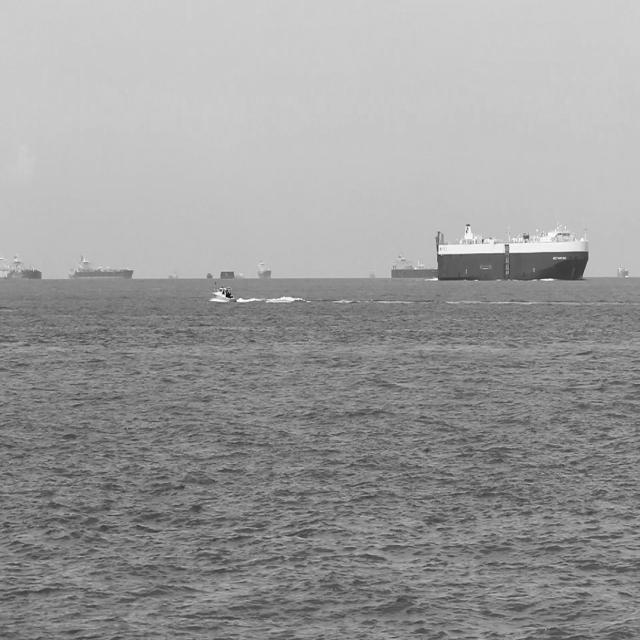ship: (434, 221, 590, 287), (61, 249, 136, 281), (0, 254, 47, 283), (388, 255, 438, 281), (207, 280, 239, 306), (252, 258, 272, 284), (612, 258, 630, 284)
